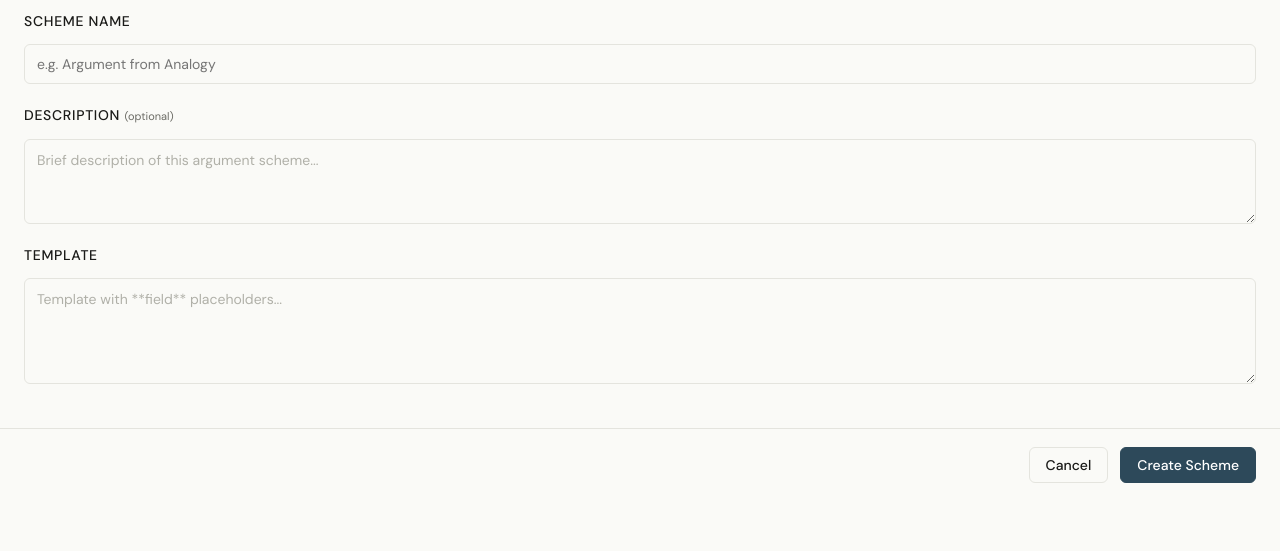
it: AddSchemeForm › shows validation error when template is empty
This screenshot has width=1280, height=551.
Type "Analogy" into the field labelled "Scheme name" at (640, 64), box [24,44,1256,84]
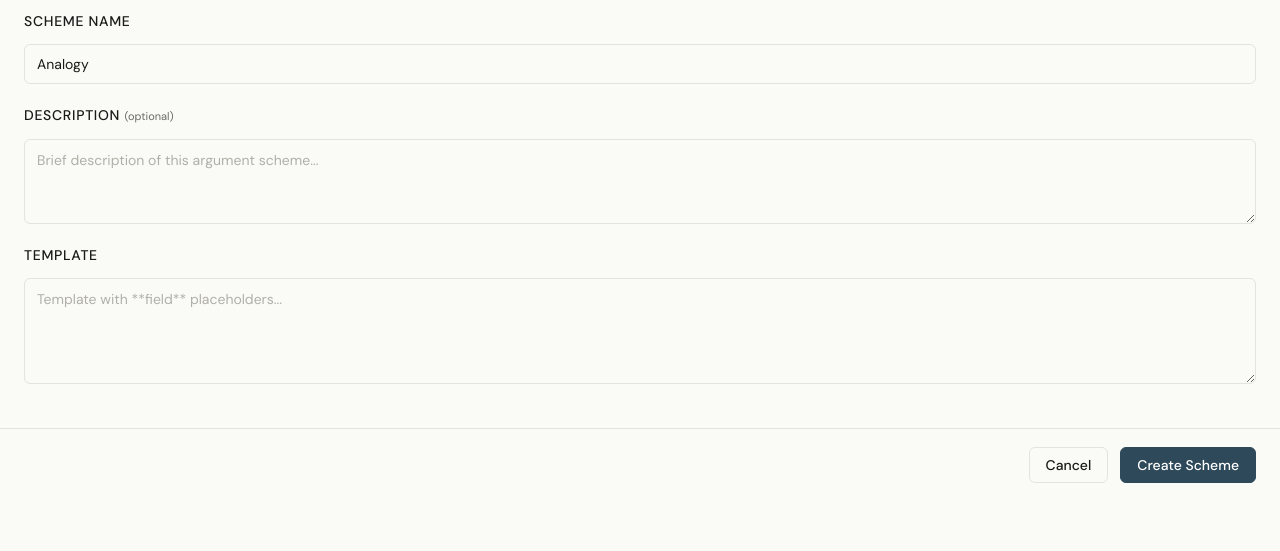
Click the button "Create Scheme" at (1188, 465), box [1120,447,1256,483]
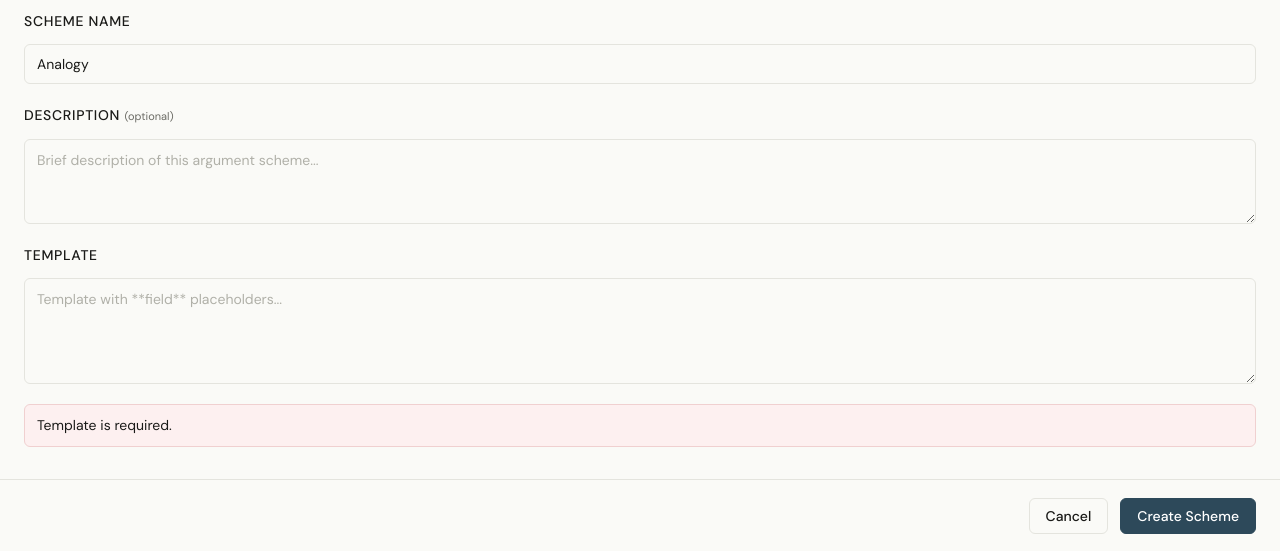
Check: the text "Template is required." is shown, box [24,404,1256,447]
